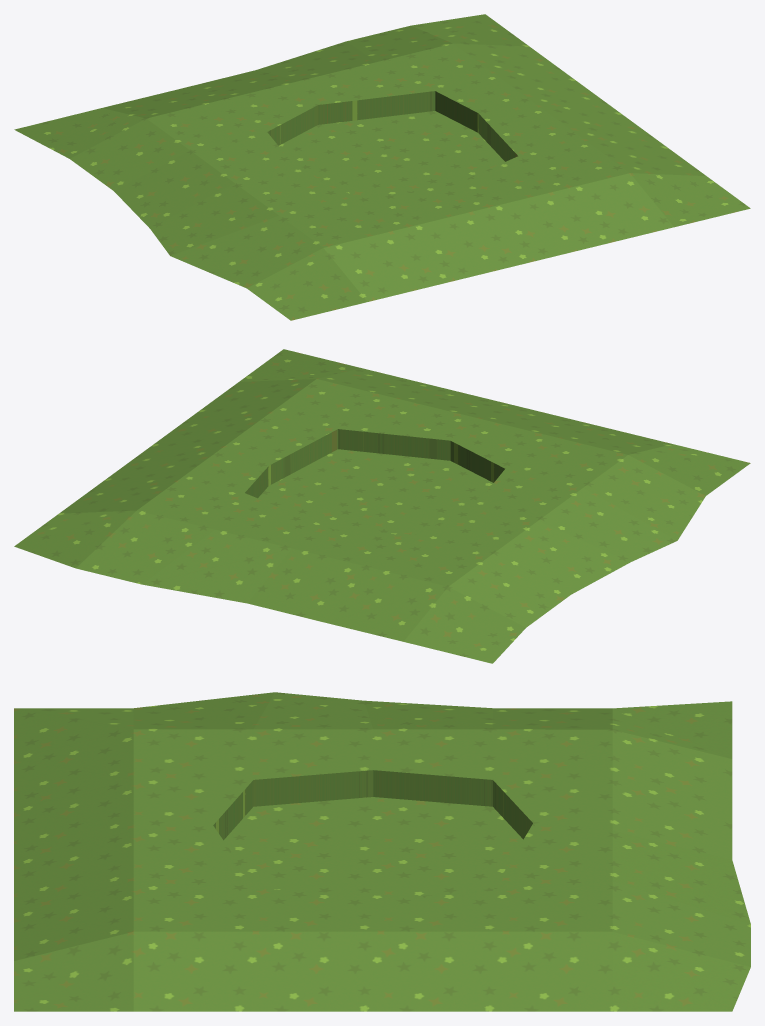
Rendered from new village pondfbx.fbx.
3 renders of one model, top to bottom at view 1: azimuth 30°, elevation 25°; view 2: azimuth 150°, elevation 25°; view 3: azimuth 270°, elevation 25°, orthographic. The views are drawn at different scales.
Parts seen in each view (by area): view 1: Plane.036; view 2: Plane.036; view 3: Plane.036.
Boxes of the visible parts, bbox=[...] form: Plane.036: bbox=[14, 14, 750, 320]; Plane.036: bbox=[14, 349, 750, 663]; Plane.036: bbox=[14, 692, 750, 1011].
Bounding box in the file's own units: 8538 × 375 × 8322.
